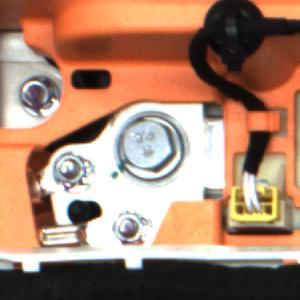nut_b: (114, 108, 192, 189)
screw_s: (107, 205, 155, 245), (19, 74, 61, 117), (48, 149, 85, 185)
